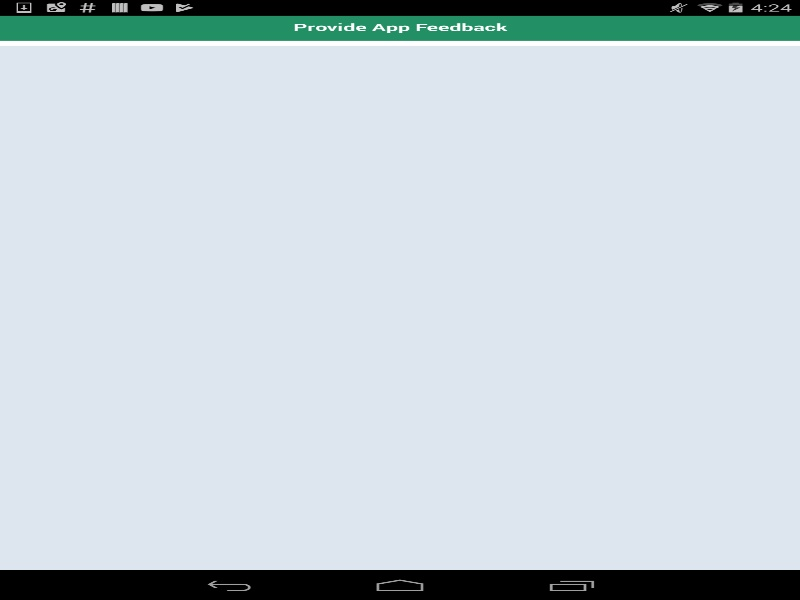Button: (69, 209, 730, 223), (69, 476, 730, 490), (69, 435, 730, 448), (477, 511, 730, 539)
Input: (69, 231, 732, 388)
